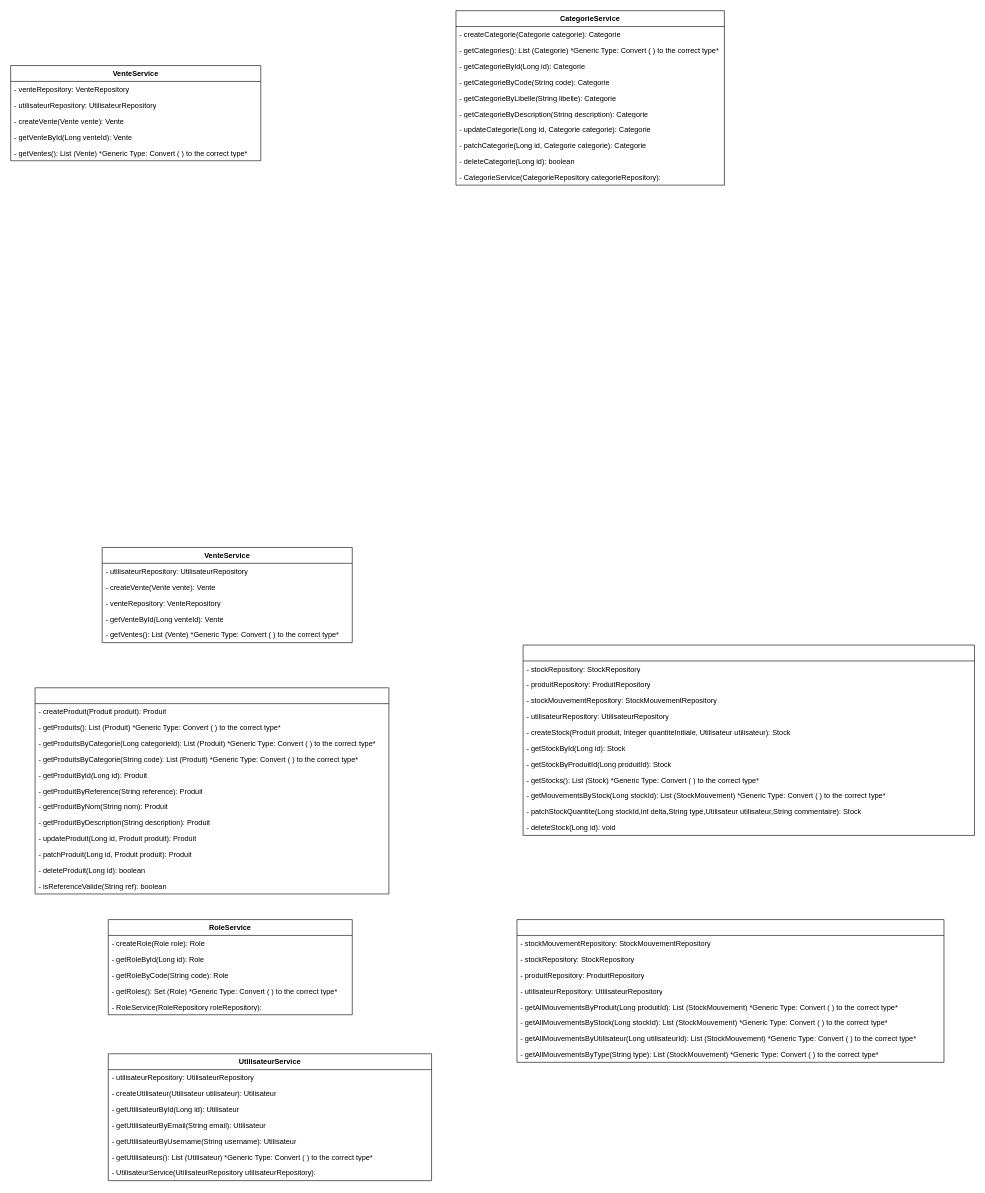
The diagram is 985 pixels wide and 1193 high, and some of its shapes have lost their labels. The shapes that lost their labels are listed below. From the top down, each one's box as (x1, y1, x2, y2) in pixels, then its label:
(522, 644, 974, 835): StockService
(34, 687, 389, 894): ProduitService
(516, 919, 944, 1062): StockMouvementService
